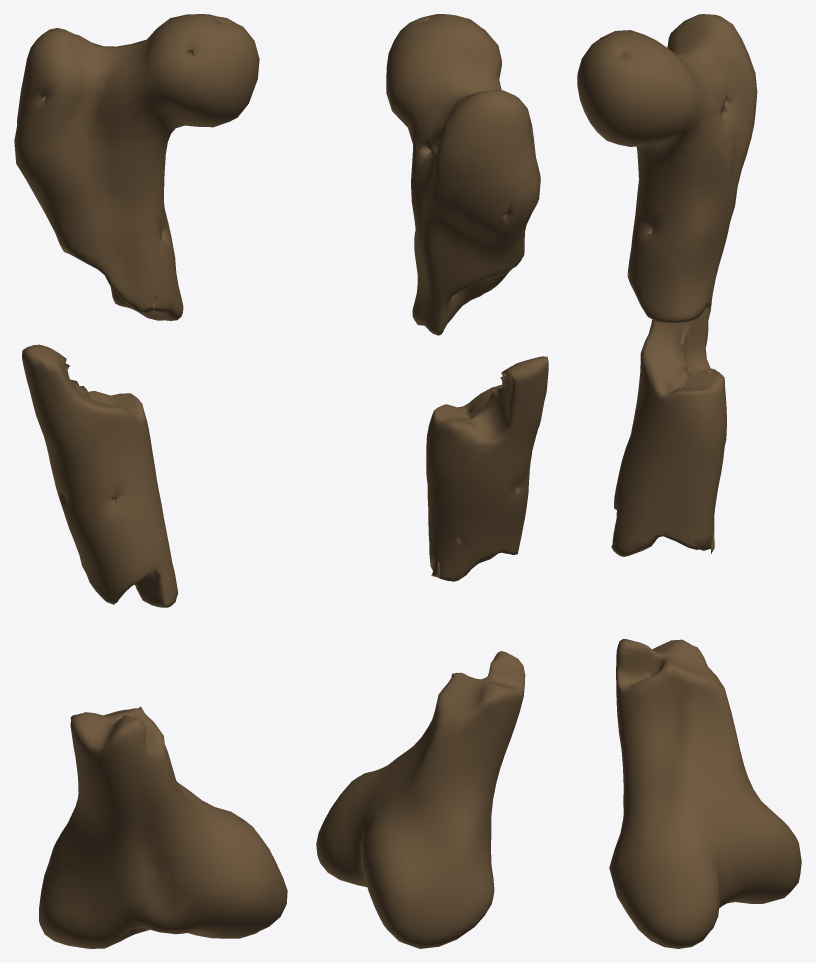
File: osso.fbx
The picture shows the model from 3 angles, left to right: view 1: azimuth 30°, elevation 25°; view 2: azimuth 150°, elevation 25°; view 3: azimuth 270°, elevation 25°; orthographic projection. The views are drawn at different scales.
Parts seen in each view (by area): view 1: osso parte 1, osso parte 3, osso parte 2; view 2: osso parte 3, osso parte 1, osso parte 2; view 3: osso parte 3, osso parte 1, osso parte 2.
Boxes of the visible parts, box(x1,y1,x2,y2) form: osso parte 1: box(14, 14, 259, 320); osso parte 3: box(39, 706, 287, 948); osso parte 2: box(22, 344, 177, 607); osso parte 3: box(316, 651, 525, 948); osso parte 1: box(386, 14, 540, 335); osso parte 2: box(426, 356, 548, 581); osso parte 3: box(609, 639, 801, 948); osso parte 1: box(577, 14, 757, 322); osso parte 2: box(611, 303, 726, 556).
Size of the model in its own units: 537 by 1950 by 449.
